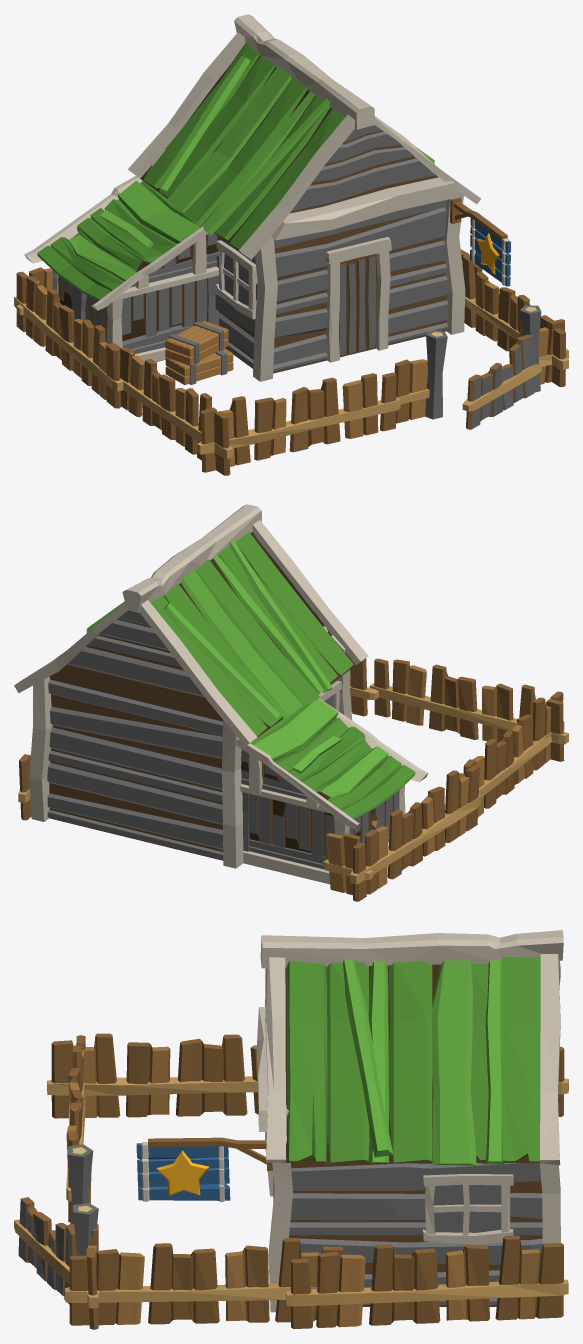
The model's file is Build_Home01.FBX.
The picture shows the model from 3 angles, top to bottom: view 1: azimuth 30°, elevation 25°; view 2: azimuth 150°, elevation 25°; view 3: azimuth 270°, elevation 25°; orthographic projection. The views are drawn at different scales.
Visible parts, largest first — view 1: Build_Home01, Build_Home01_board; view 2: Build_Home01; view 3: Build_Home01, Build_Home01_board.
Part boxes in pixels (x1,y1,x2,y2): Build_Home01: [14, 14, 568, 475]; Build_Home01_board: [470, 218, 511, 286]; Build_Home01: [14, 504, 568, 901]; Build_Home01: [14, 930, 568, 1329]; Build_Home01_board: [136, 1142, 230, 1201].
Bounding box in the file's own units: 568 × 371 × 588.
Materials: 1 (1 with a texture image).
